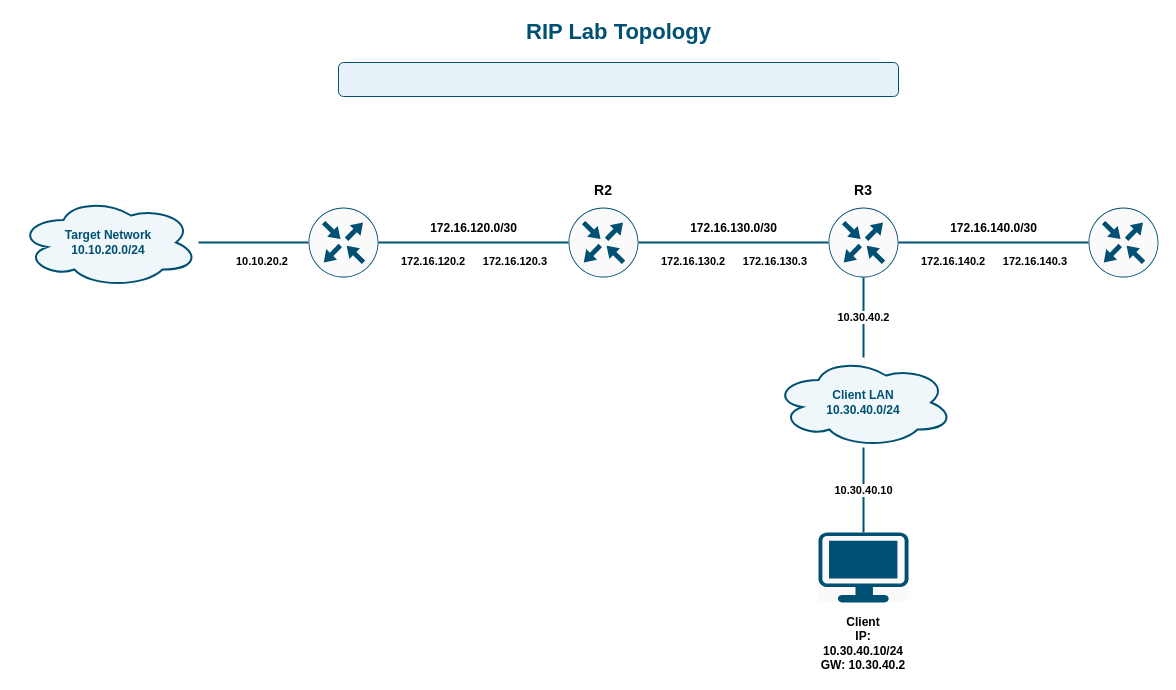
This 1176x690 diagram has some shape labels left out. The shapes that lost their labels are listed below. From the top down, each one's box as (x1, y1, x2, y2) in pixels, then its label:
(338, 62, 898, 96): Traffic Flow: Client (10.30.40.10) → R3 → R2 → R1 → 10.10.20.0/24
(308, 206, 378, 278): R1
(1088, 206, 1158, 278): R4
